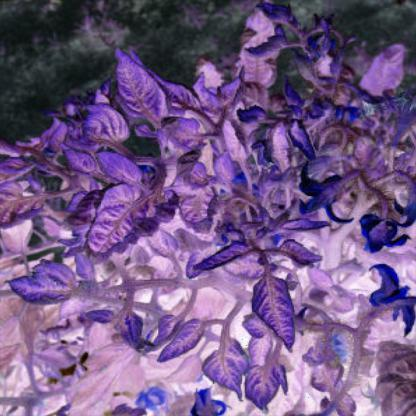Tomato leaf: (76, 180, 184, 272), (101, 44, 168, 120), (0, 260, 84, 318), (245, 272, 306, 350), (240, 354, 311, 414), (166, 187, 233, 237), (84, 148, 151, 197), (154, 317, 210, 367), (202, 340, 253, 393), (294, 180, 362, 216)
